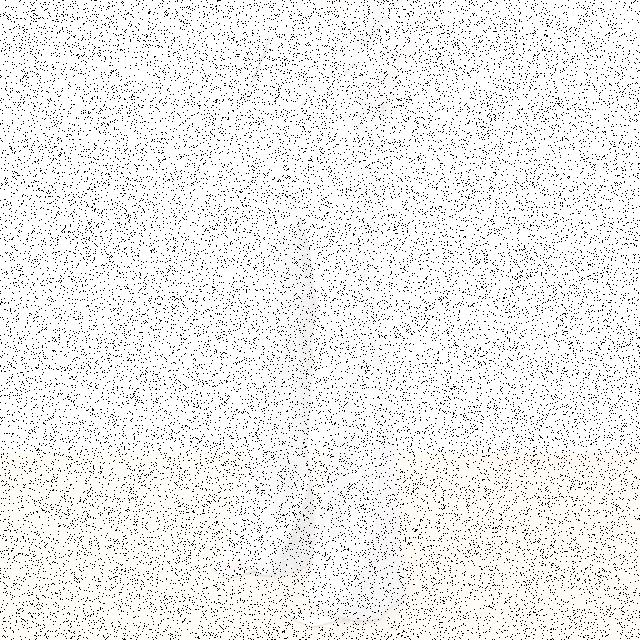Blouse_deep: (235, 53, 402, 617)
